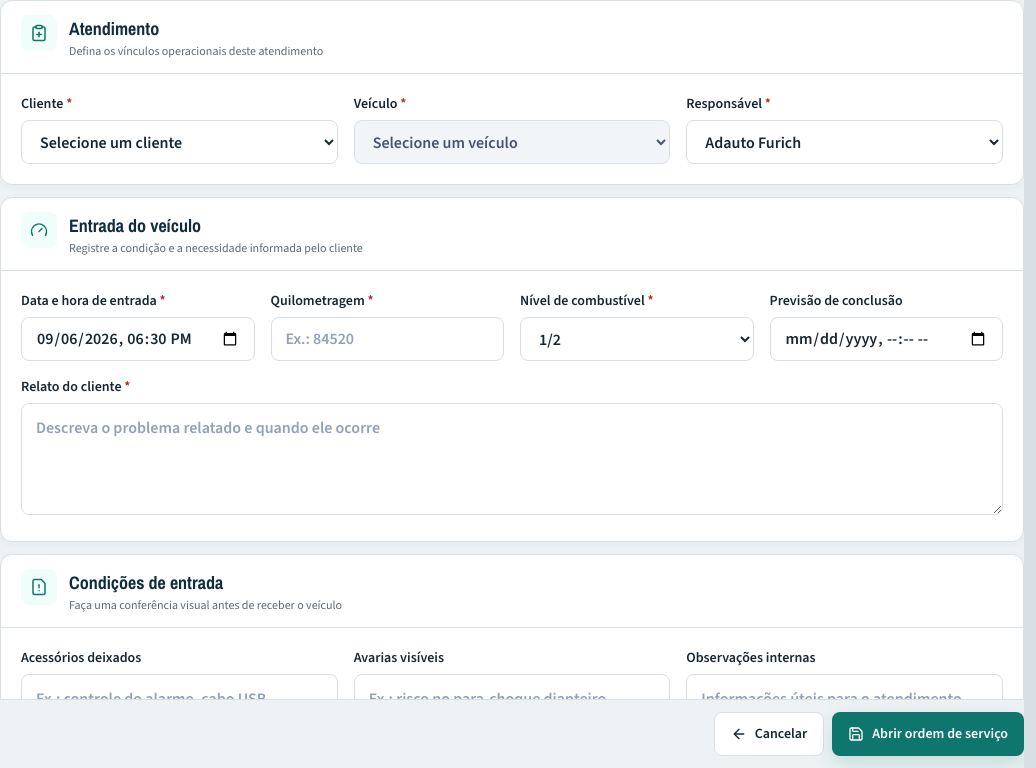
Test case: abertura de ordem de serviço › carrega somente os veículos do cliente selecionado
Check: the dropdown labelled "Veículo *" is disabled, box [354,120,670,164]
Select "Maria da Silva — CPF 529.982.247-25" in the dropdown labelled "Cliente *" at (179, 142), box [21,120,338,164]
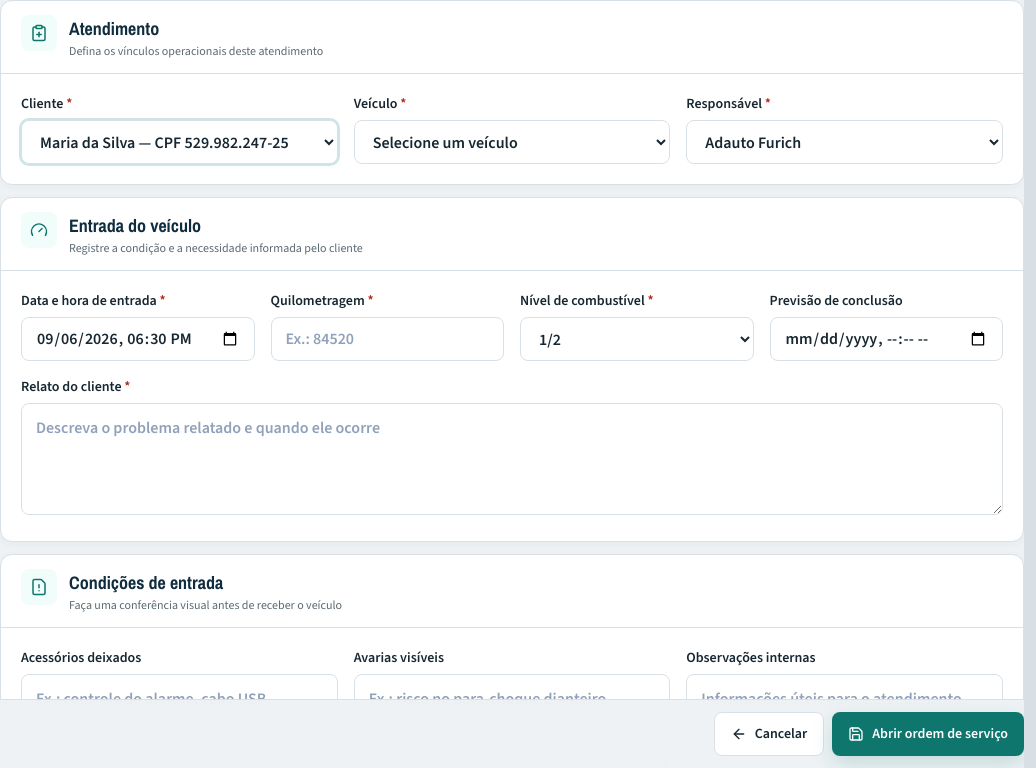
Check: the dropdown labelled "Veículo *" is enabled, box [354,120,670,164]
